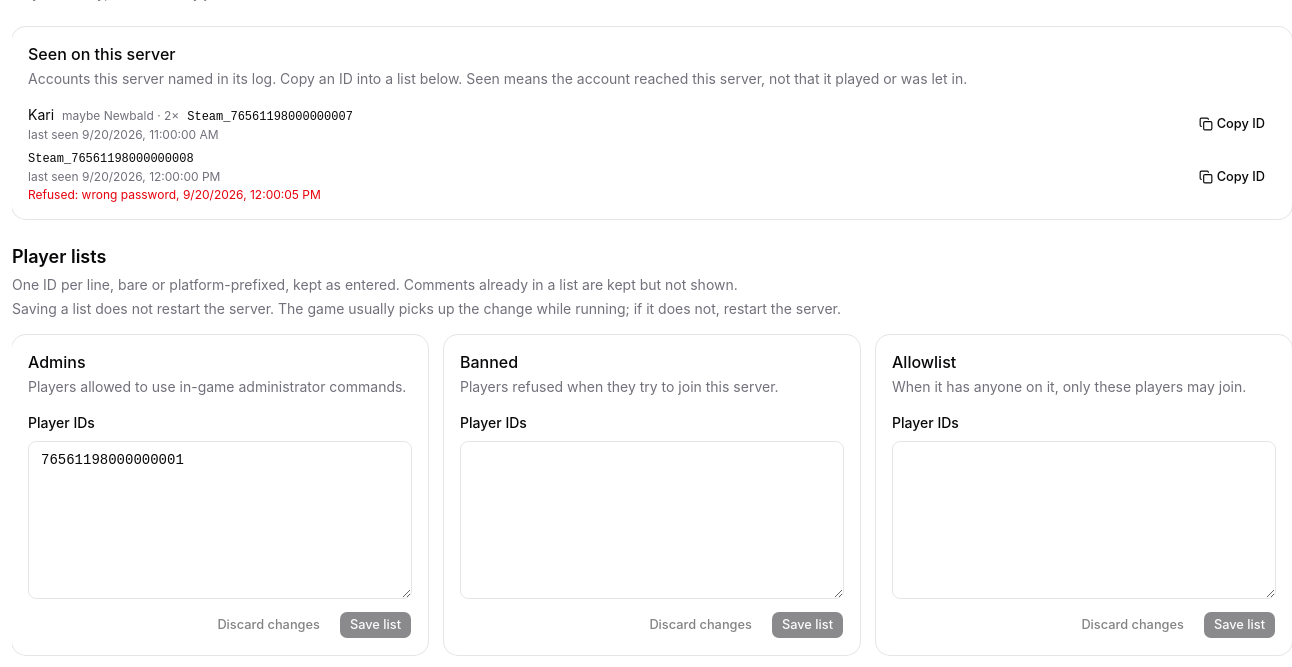
Test: the player-list screen › discards local edits for the saved version when asked
This screenshot has width=1292, height=667.
Replace the text in the text box labelled "Player IDs" below "Admins" with "mine" at [220, 520], box [28,441,412,599]
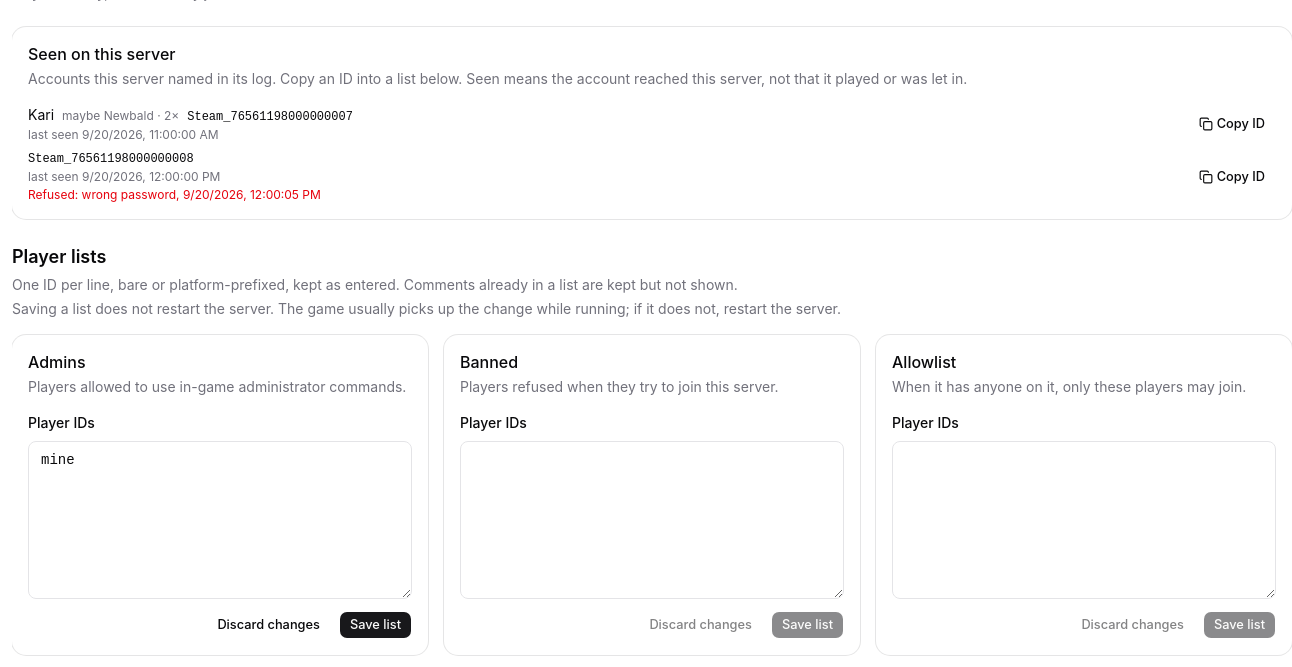
Click the button "Save list" below "Admins".
click(375, 625)  # box [339,611,412,639]
(page scrolled)
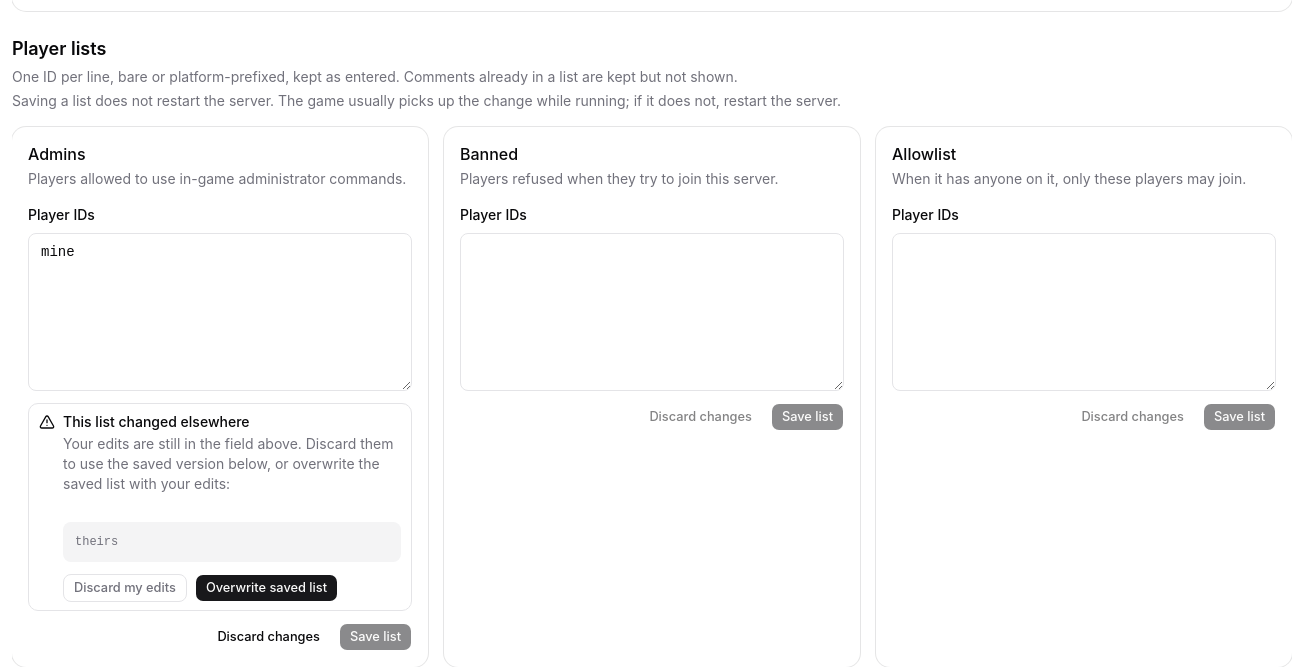
Click the button "Discard my edits".
click(125, 588)  # box [63,574,187,602]
(page scrolled)
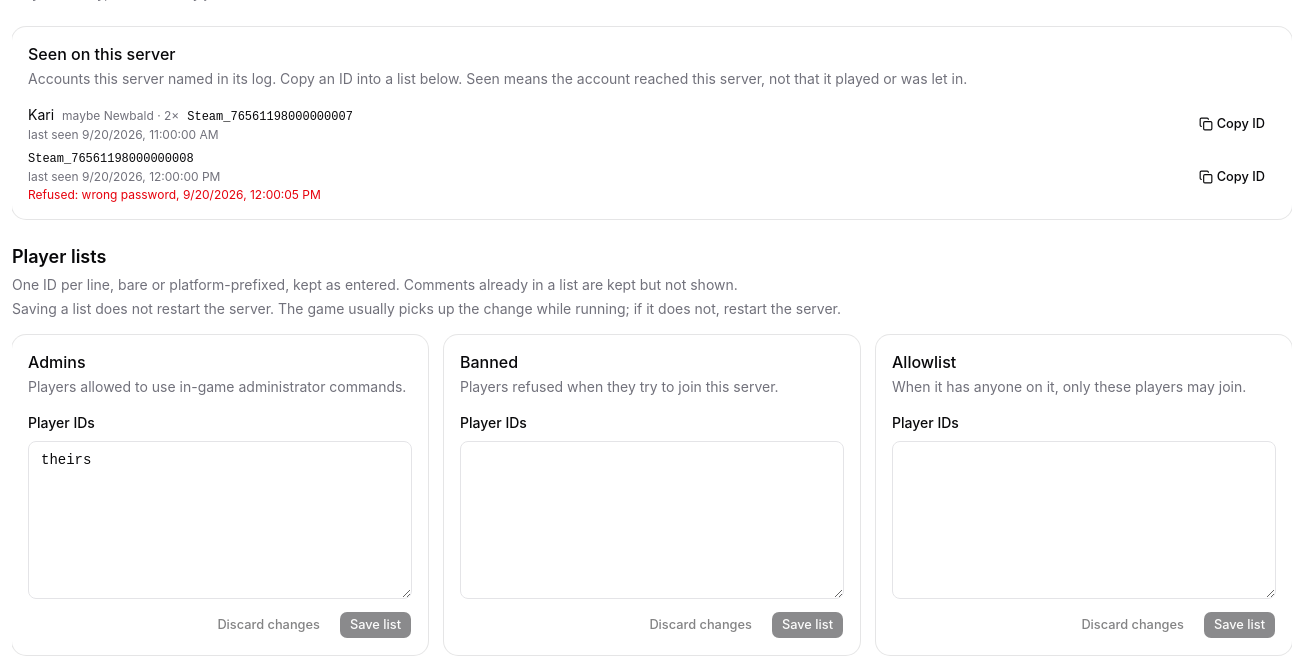
Now the text box labelled "Player IDs" below "Admins" holds "theirs", box [28,441,412,599]
